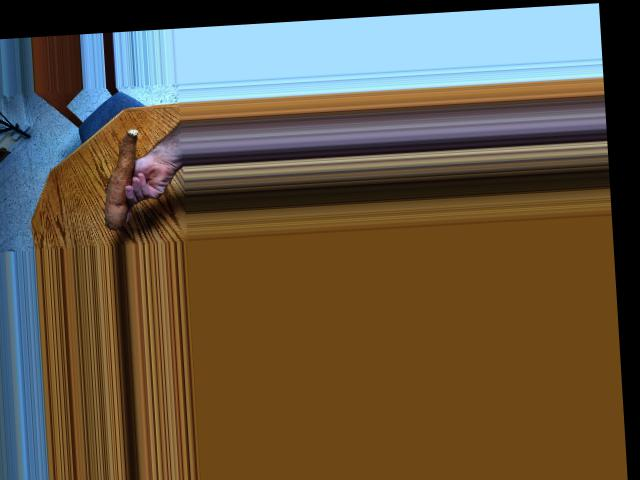sweet_potato: (98, 127, 147, 231)
